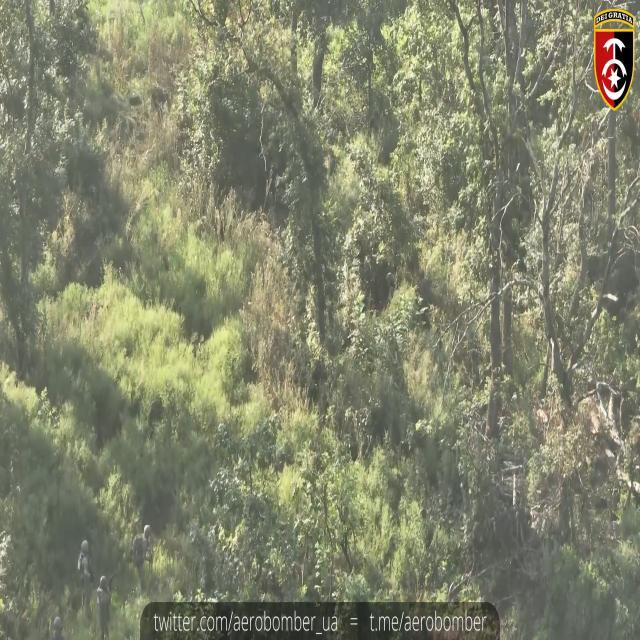MIL_Pax: (132, 524, 151, 589), (78, 540, 94, 613), (96, 576, 111, 639), (51, 616, 64, 639)
